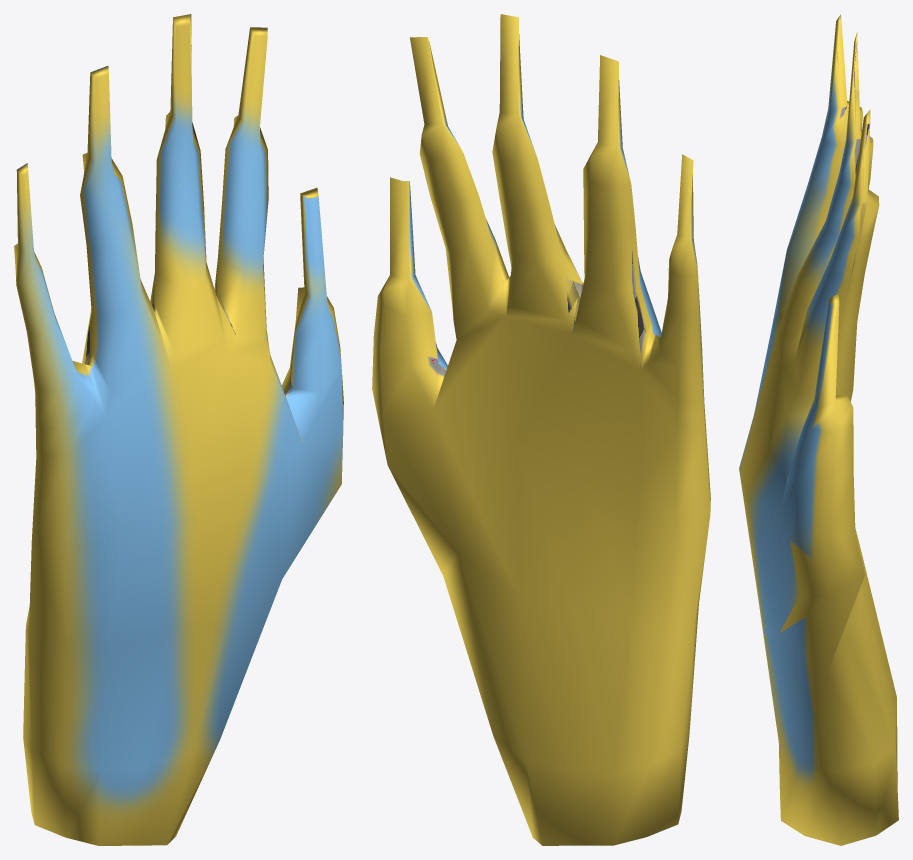
File: mana1.fbx
3 views of the same model, side by side, from view 1: azimuth 30°, elevation 25°; view 2: azimuth 150°, elevation 25°; view 3: azimuth 270°, elevation 25° (orthographic). The views are drawn at different scales.
Parts seen in each view (by area): view 1: Cube; view 2: Cube; view 3: Cube.
Boxes of the visible parts, x1,y1,x2,y2 form: Cube: (14,14,343,845); Cube: (372,14,710,845); Cube: (739,14,898,845).
Size of the model in its own units: 77.56 by 183 by 32.29.
Materials: 1 (1 with a texture image).
